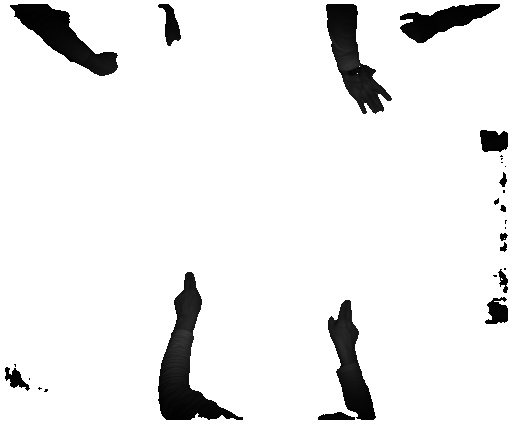fist: (93, 51, 119, 79), (160, 19, 183, 47)
hand: (336, 69, 391, 119), (168, 272, 207, 327), (328, 296, 359, 353)
